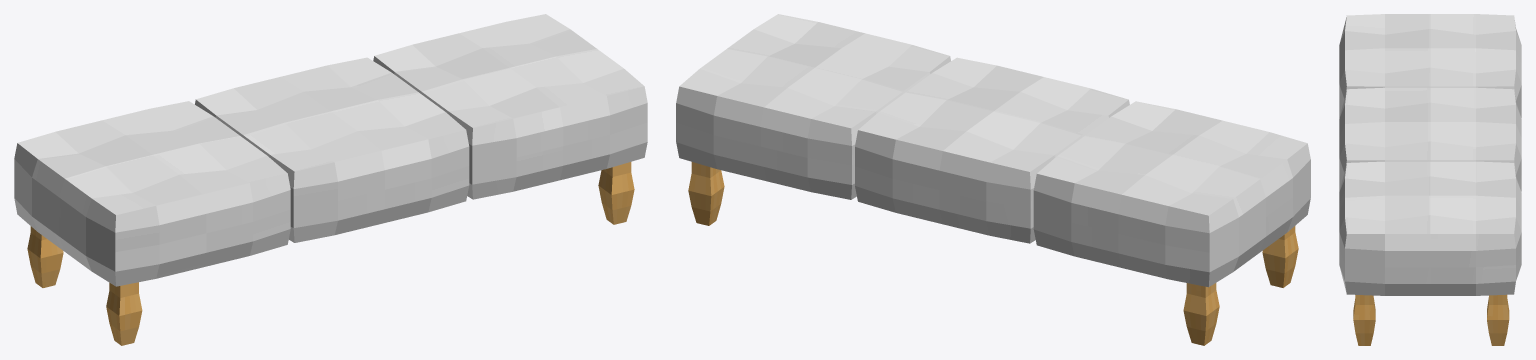
Rendered from simple_long_footstool.obj.
3 views of the same model, side by side, from view 1: azimuth 30°, elevation 25°; view 2: azimuth 150°, elevation 25°; view 3: azimuth 270°, elevation 25° (orthographic). The views are drawn at different scales.
Visible parts, largest first — view 1: Cube.004; view 2: Cube.004; view 3: Cube.004.
Part boxes in pixels (box(x1,y1,x2,y2)): Cube.004: box(14, 14, 647, 345); Cube.004: box(676, 14, 1310, 345); Cube.004: box(1339, 14, 1521, 345).
Bounding box in the file's own units: 4.4 × 1.09 × 1.51.
